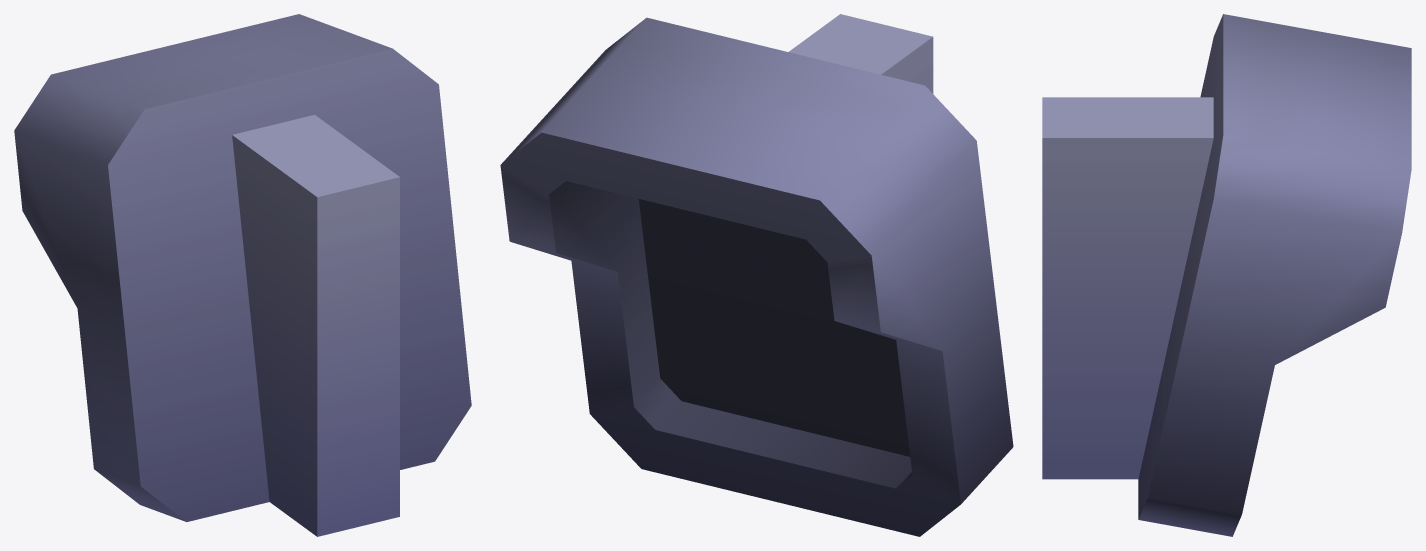
The model's file is screen-hanging.glb.
The picture shows the model from 3 angles, left to right: view 1: azimuth 30°, elevation 25°; view 2: azimuth 150°, elevation 25°; view 3: azimuth 270°, elevation 25°; orthographic projection. The views are drawn at different scales.
Visible parts, largest first — view 1: screen-hanging-small; view 2: screen-hanging-small; view 3: screen-hanging-small.
Boxes of the visible parts, x1,y1,x2,y2 form: screen-hanging-small: (14, 14, 471, 536); screen-hanging-small: (500, 14, 1013, 536); screen-hanging-small: (1042, 14, 1411, 536).
Size of the model in its own units: 0.6 by 0.6913 by 0.5765.
1 material, 1 textured.
